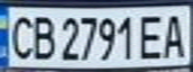1: (115, 12, 139, 61)
2: (57, 12, 81, 62)
7: (78, 12, 100, 62)
9: (97, 12, 118, 62)
A: (157, 10, 190, 58)
B: (27, 11, 57, 62)
C: (3, 11, 36, 61)
E: (136, 11, 169, 61)
